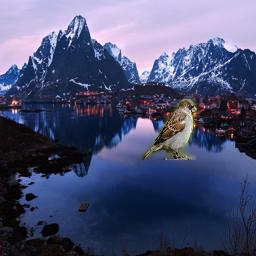Sparrow: (141, 99, 197, 160)
